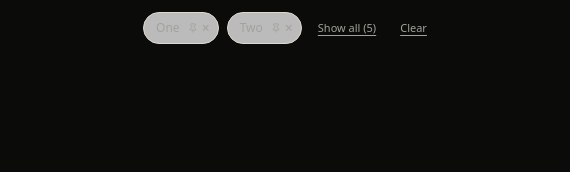
RecentPromptChips › auto-collapses when prompts shrink to fit the limit
Click the button with aria-label "show all recent prompts": [347, 28] box [310,16,384,40]
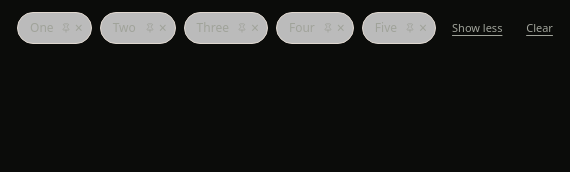
expect the number of list items is 5: met, box [17,12,92,44]; [100,12,176,44]; [184,12,268,44]; [276,12,354,44]; [362,12,436,44]
